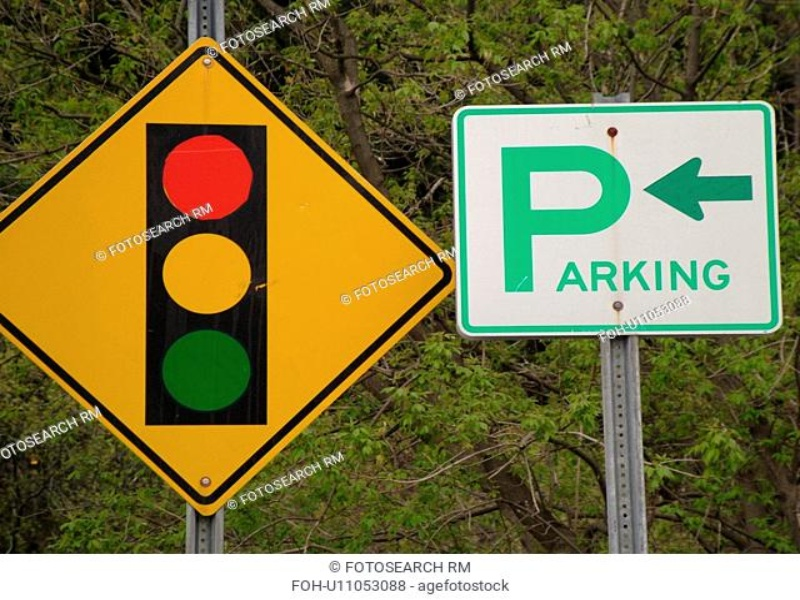traffic signal sign: (3, 34, 457, 518)
